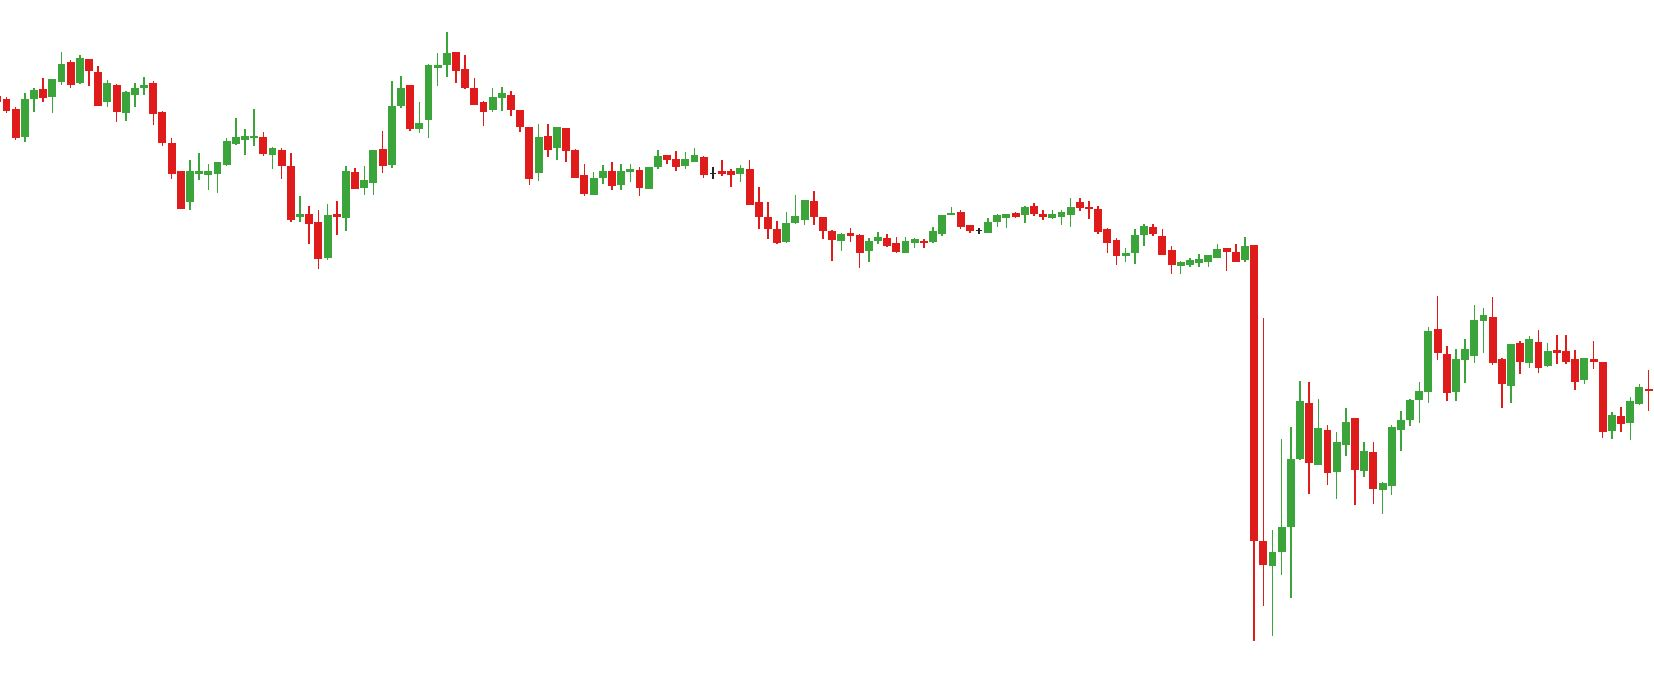sell: (1430, 289, 1499, 381)
